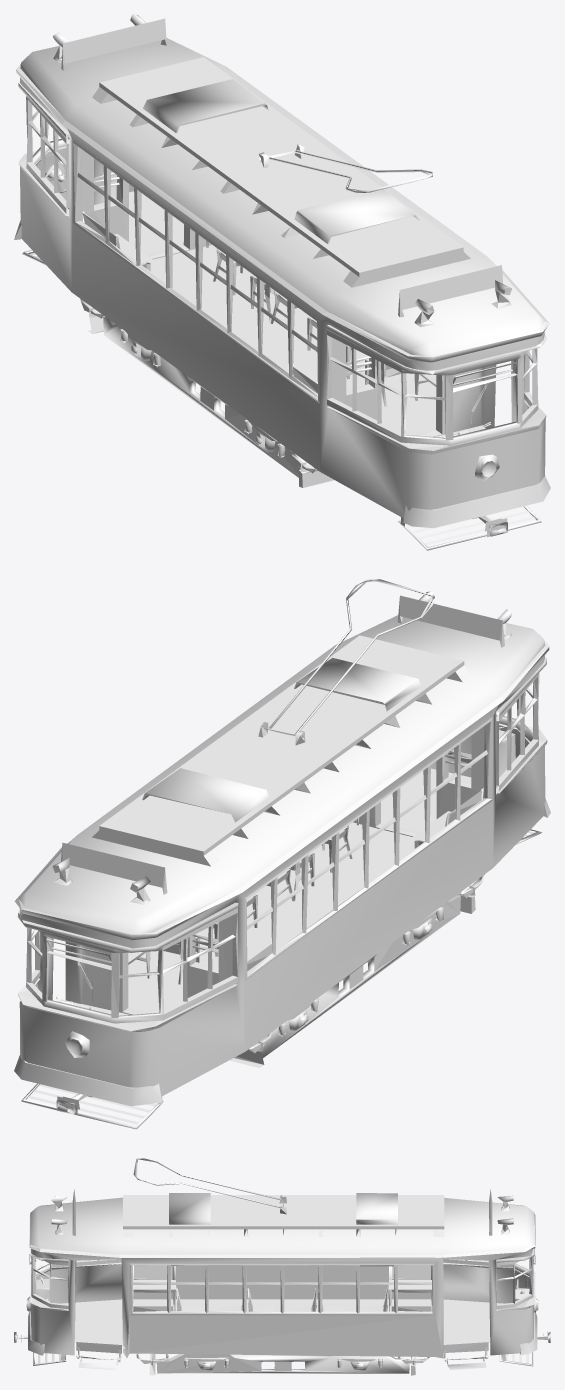
3 views of the same model, one above another, from view 1: azimuth 30°, elevation 25°; view 2: azimuth 150°, elevation 25°; view 3: azimuth 270°, elevation 25° (orthographic). The views are drawn at different scales.
Bounding box in the file's own units: 2.53 × 4.04 × 10.39.
1 material, 1 textured.
